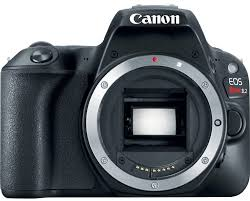camera: (4, 9, 247, 192)
